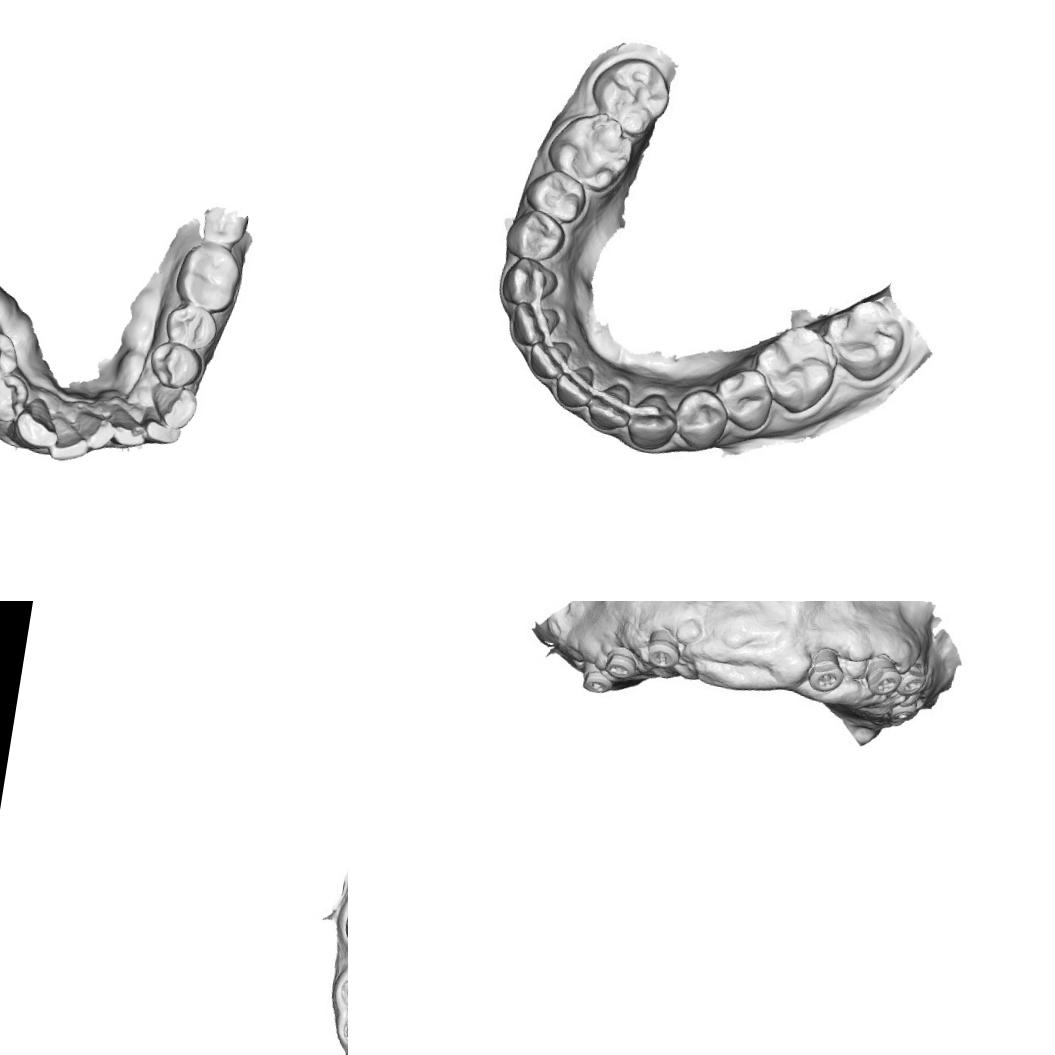canine: (622, 389, 680, 454), (496, 254, 560, 308), (10, 393, 65, 454), (144, 380, 201, 433)
implant_minus: (641, 632, 686, 681), (598, 645, 638, 685), (898, 662, 934, 700), (576, 670, 612, 704)
implant_plus: (801, 646, 846, 696), (860, 652, 906, 700)
incisor: (585, 377, 639, 436), (508, 298, 564, 347), (527, 334, 577, 386), (44, 414, 92, 466), (554, 361, 601, 413), (70, 410, 120, 454), (105, 404, 150, 451), (136, 412, 184, 450)
molar: (545, 101, 637, 195), (754, 320, 841, 414), (824, 294, 908, 380), (589, 51, 672, 134), (170, 243, 245, 317), (194, 205, 250, 254)
premolar: (144, 333, 208, 393), (523, 166, 589, 222), (503, 207, 563, 266), (718, 367, 775, 426), (161, 301, 221, 353), (676, 389, 726, 444), (0, 367, 32, 427), (0, 323, 24, 384)
